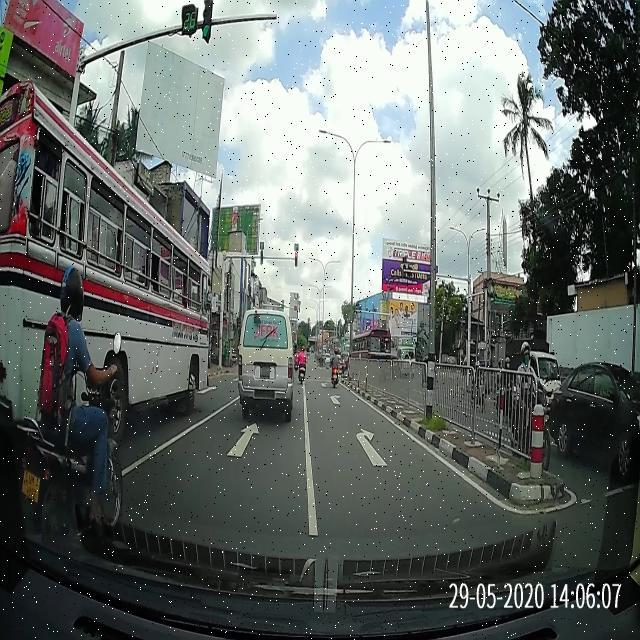forward: (147, 412, 316, 484)
